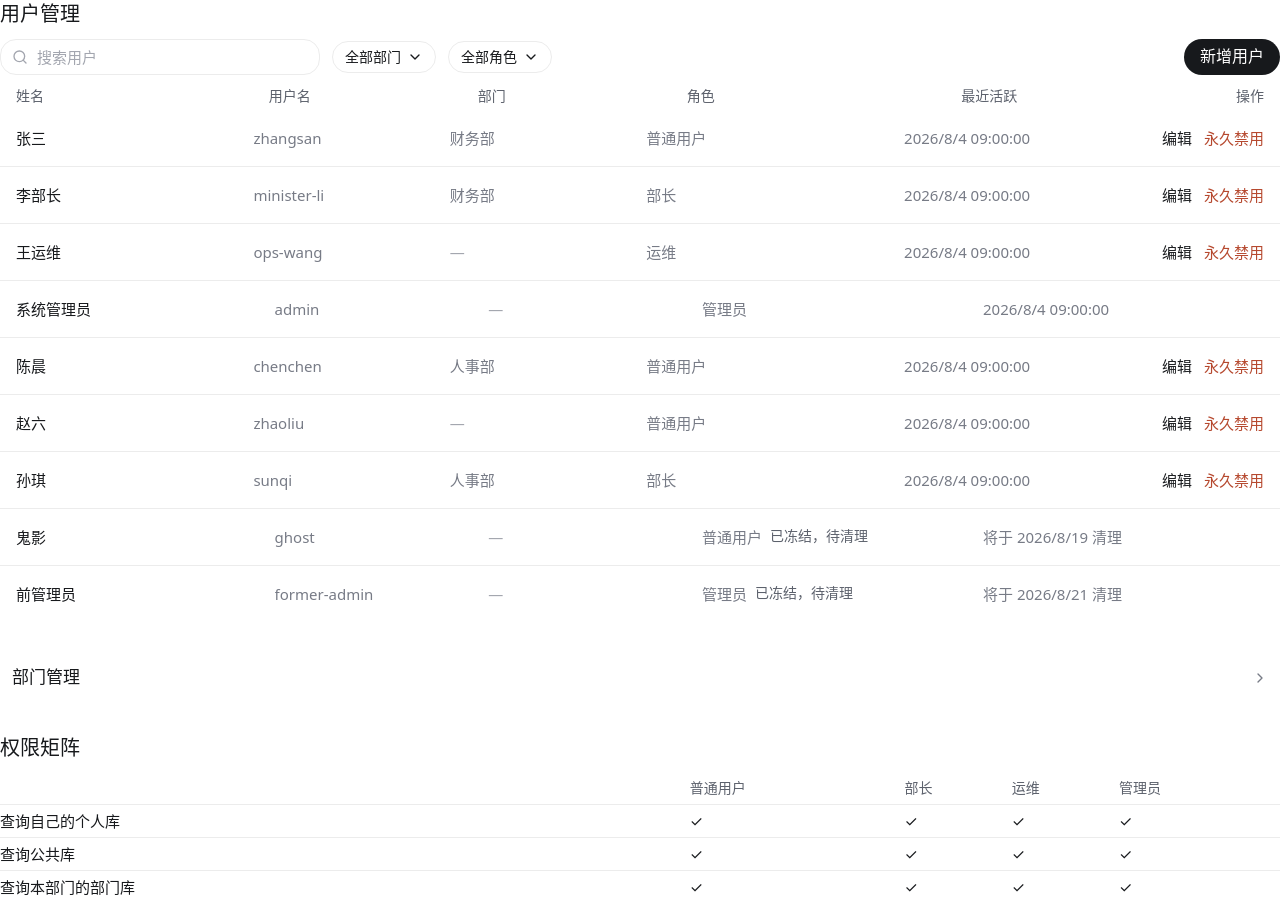
Test: 编辑用户对话框 › 部长 + 无部门：服务端 422，部门框 aria-invalid + 框下说明
This screenshot has width=1280, height=900.
Expected: the text "赵六" is shown, [16,413,46,433]
Click the button "编辑" in the row of "zhaoliu": (1177, 423) [1162,413,1192,433]
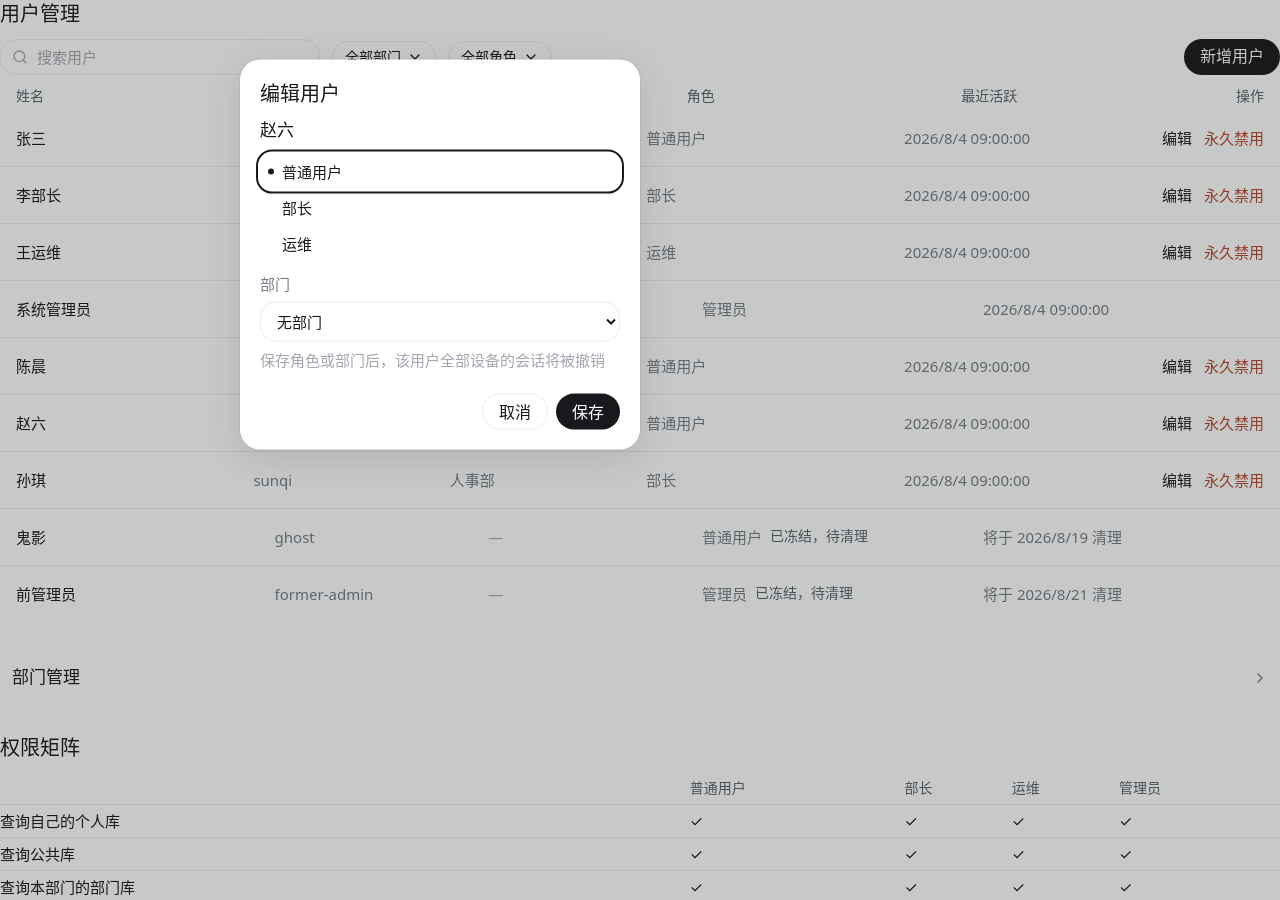
Result: the dropdown is enabled at [260,302,620,342]
Click the radio button labelled "部长": (297, 207) [260,190,620,226]
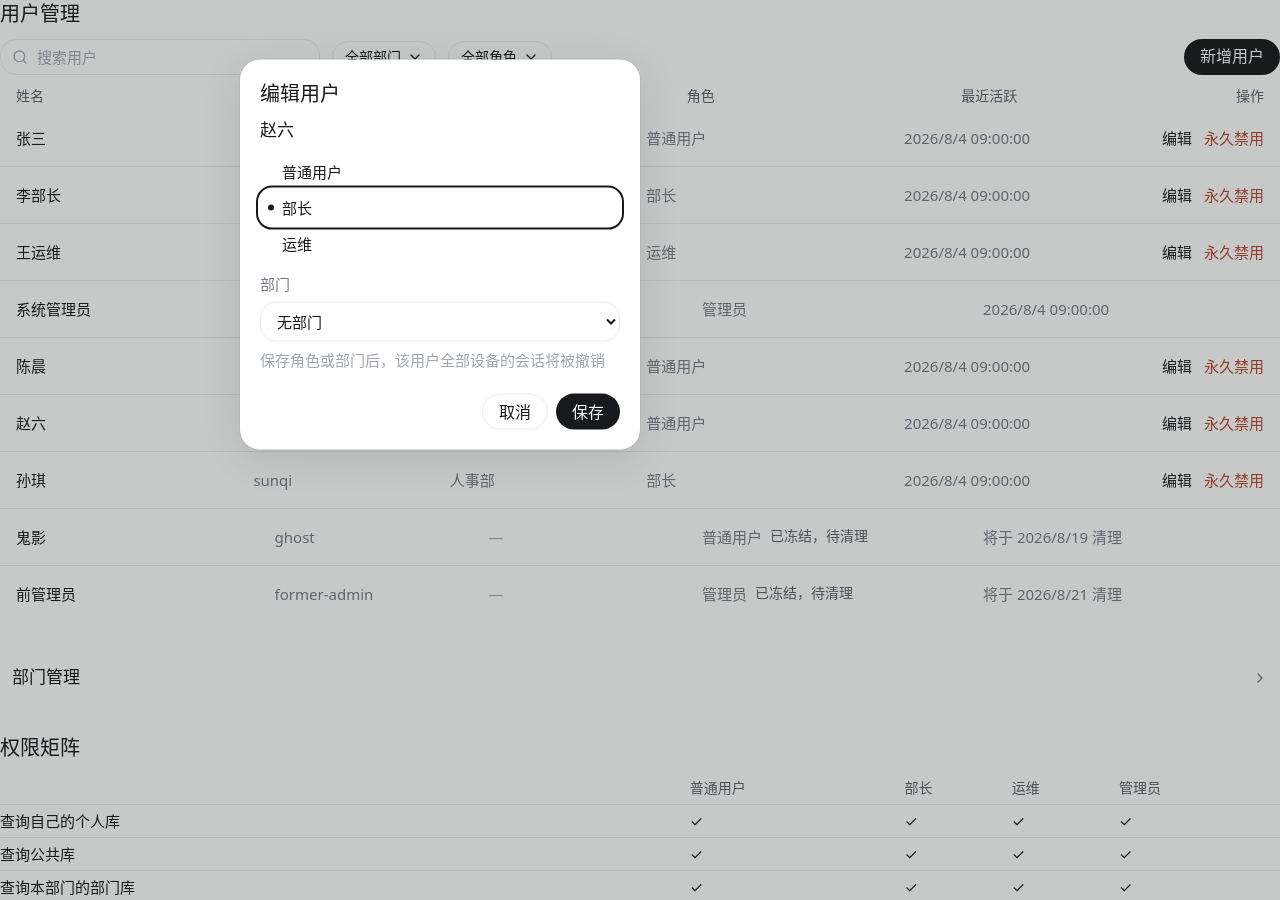
Click the button "保存": (588, 412) [556,394,620,430]
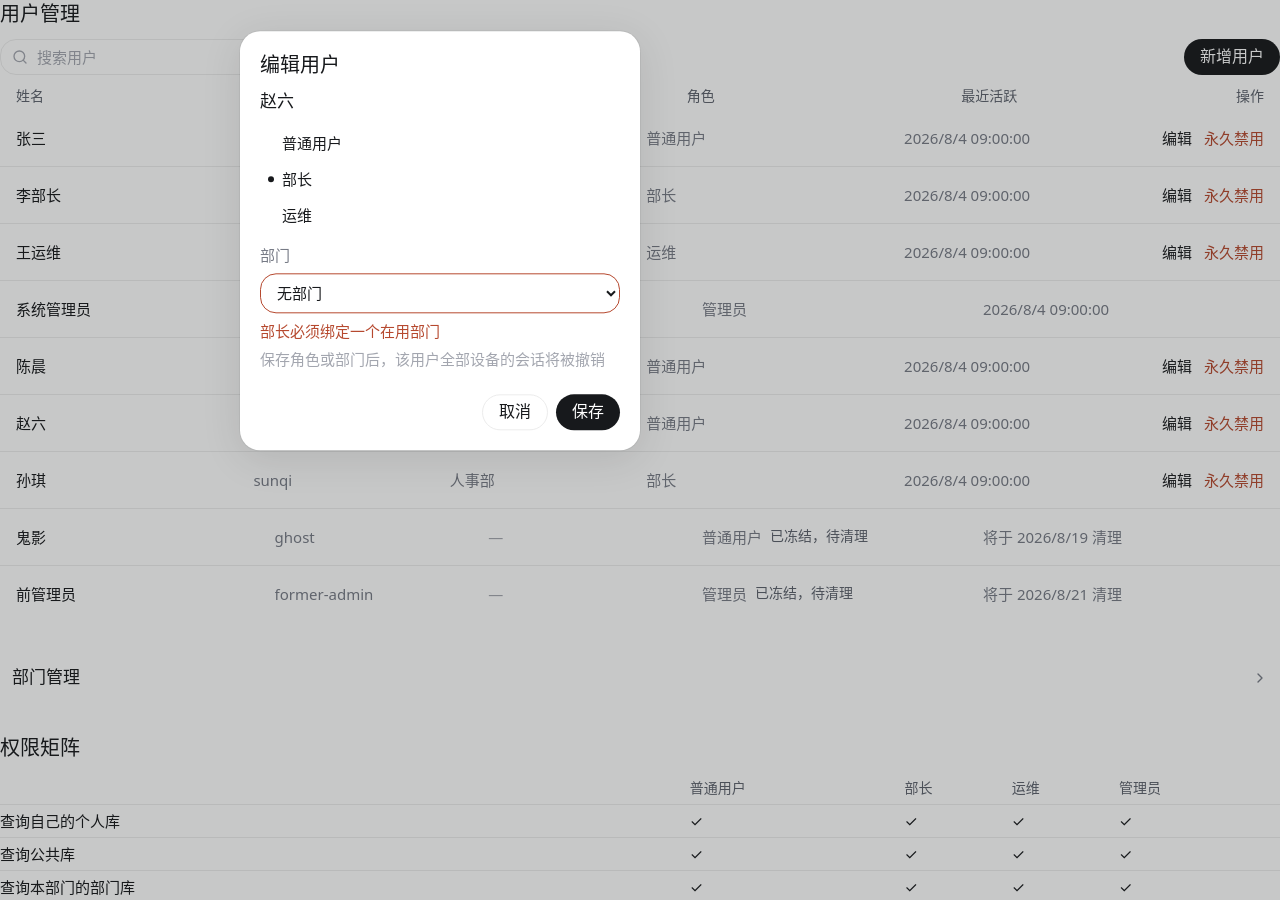
Result: the text "部长必须绑定一个在用部门" is shown at [260,322,440,342]
